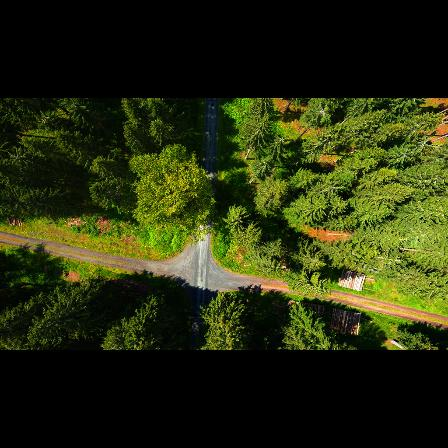Sick: (270, 129, 295, 149), (310, 101, 334, 121)
